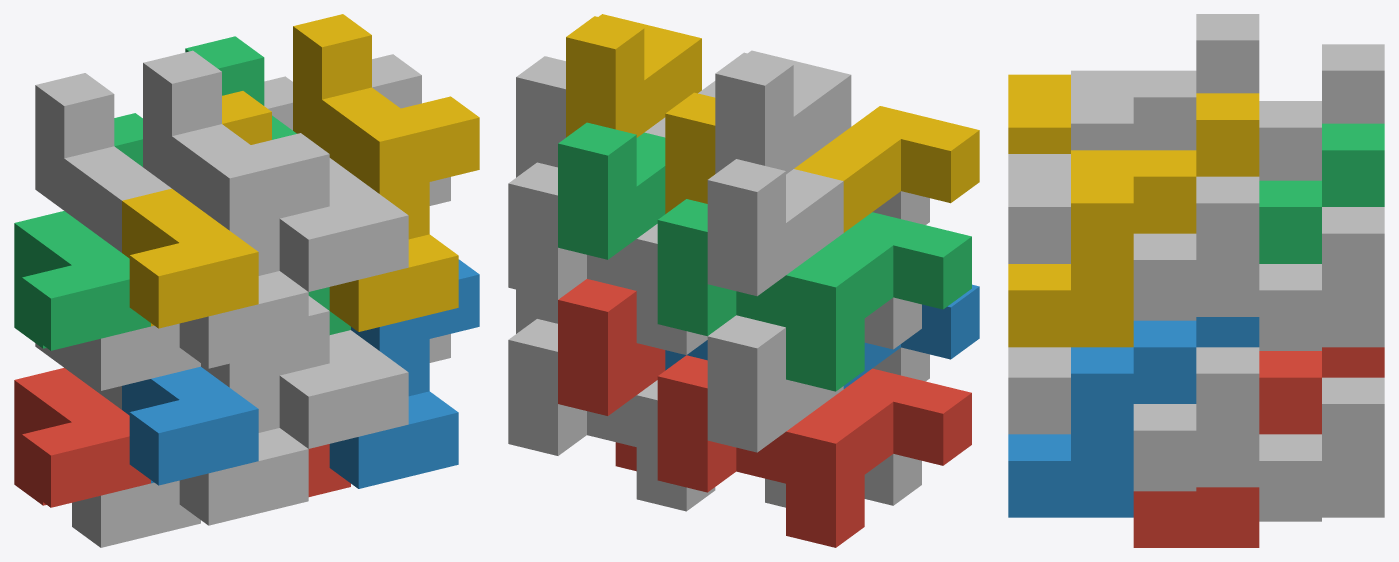
The model's file is tiling.obj.
3 renders of one model, left to right at view 1: azimuth 30°, elevation 25°; view 2: azimuth 150°, elevation 25°; view 3: azimuth 270°, elevation 25°, orthographic. The views are drawn at different scales.
Parts seen in each view (by area): view 1: copy_2_domain_4, copy_2_domain_8, copy_2_domain_3, copy_1_domain_4, copy_1_domain_3, copy_1_domain_1, copy_1_domain_8, copy_2_domain_6, copy_2_domain_2, copy_1_domain_2, copy_1_domain_6, copy_2_domain_1 (+3 smaller); view 2: copy_1_domain_1, copy_1_domain_3, copy_1_domain_4, copy_2_domain_3, copy_2_domain_4, copy_2_domain_1, copy_2_domain_8, copy_1_domain_5, copy_1_domain_7, copy_2_domain_7, copy_2_domain_5, copy_1_domain_8 (+3 smaller); view 3: copy_2_domain_8, copy_2_domain_6, copy_1_domain_8, copy_1_domain_6, copy_2_domain_4, copy_2_domain_5, copy_1_domain_5, copy_1_domain_7, copy_2_domain_7, copy_2_domain_3, copy_1_domain_4.
Part boxes in pixels (left/top/right/bottom): copy_2_domain_4: left=143, top=50, right=329, bottom=368; copy_2_domain_8: left=293, top=14, right=479, bottom=331; copy_2_domain_3: left=35, top=73, right=200, bottom=390; copy_1_domain_4: left=122, top=91, right=271, bottom=328; copy_1_domain_3: left=14, top=113, right=150, bottom=350; copy_1_domain_1: left=14, top=368, right=150, bottom=507; copy_1_domain_8: left=279, top=54, right=450, bottom=291; copy_2_domain_6: left=329, top=259, right=479, bottom=488; copy_2_domain_2: left=179, top=296, right=329, bottom=525; copy_1_domain_2: left=122, top=366, right=258, bottom=485; copy_1_domain_6: left=279, top=330, right=450, bottom=448; copy_2_domain_1: left=35, top=343, right=200, bottom=547; copy_1_domain_1: left=657, top=355, right=971, bottom=547; copy_1_domain_3: left=657, top=199, right=971, bottom=391; copy_1_domain_4: left=665, top=92, right=979, bottom=232; copy_2_domain_3: left=707, top=159, right=921, bottom=349; copy_2_domain_4: left=715, top=50, right=929, bottom=224; copy_2_domain_1: left=707, top=315, right=921, bottom=507; copy_2_domain_8: left=566, top=14, right=701, bottom=137; copy_1_domain_5: left=508, top=319, right=715, bottom=511; copy_1_domain_7: left=508, top=162, right=707, bottom=354; copy_2_domain_7: left=558, top=122, right=665, bottom=259; copy_2_domain_5: left=558, top=279, right=665, bottom=471; copy_1_domain_8: left=516, top=56, right=715, bottom=177; copy_2_domain_8: left=1008, top=93, right=1259, bottom=347; copy_2_domain_6: left=1008, top=317, right=1259, bottom=517; copy_1_domain_8: left=1008, top=154, right=1259, bottom=320; copy_1_domain_6: left=1008, top=347, right=1259, bottom=491; copy_2_domain_4: left=1071, top=14, right=1259, bottom=150; copy_2_domain_5: left=1133, top=347, right=1384, bottom=547; copy_1_domain_5: left=1259, top=377, right=1384, bottom=521; copy_1_domain_7: left=1259, top=207, right=1384, bottom=350; copy_2_domain_7: left=1259, top=123, right=1384, bottom=263; copy_2_domain_3: left=1259, top=44, right=1384, bottom=180; copy_1_domain_4: left=1008, top=74, right=1070, bottom=153.
Size of the model in its own units: 8 by 8 by 6.
